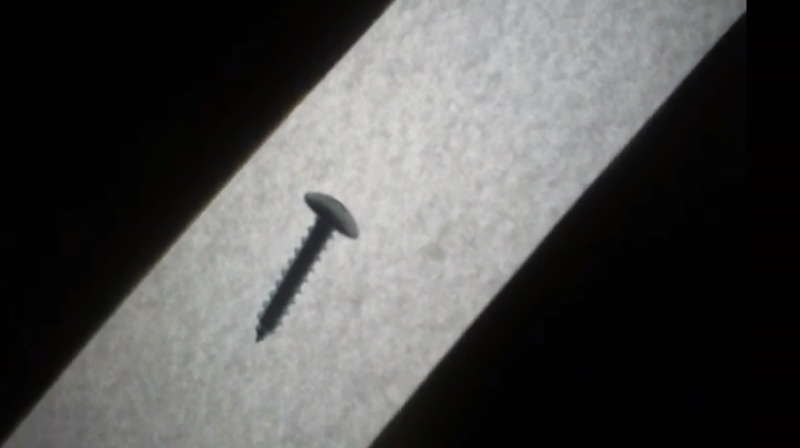S003: (251, 188, 362, 345)
